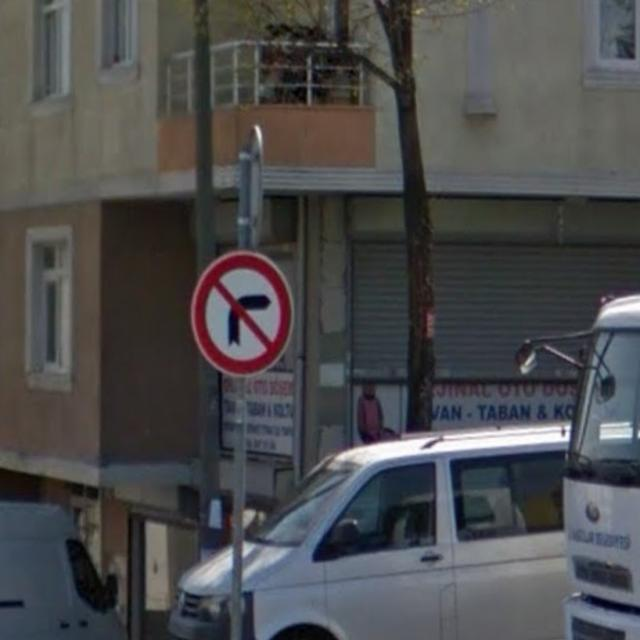sagadonulmez: (193, 250, 292, 380)
